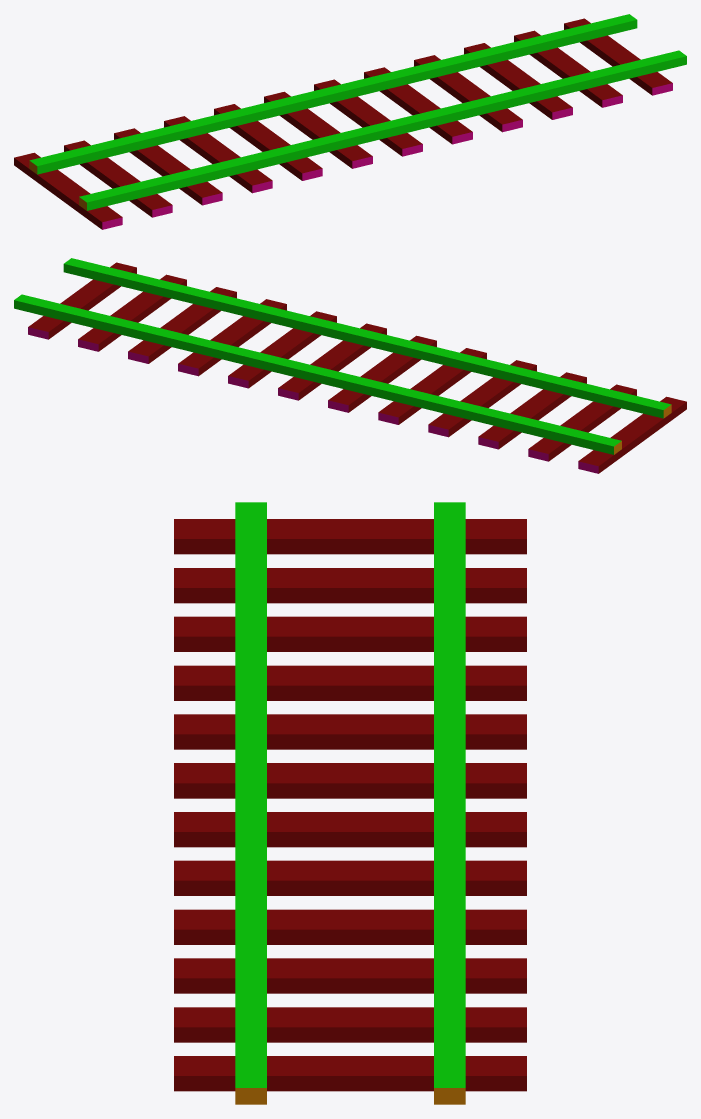
Rendered from rail_straight.fbx.
3 renders of one model, top to bottom at view 1: azimuth 30°, elevation 25°; view 2: azimuth 150°, elevation 25°; view 3: azimuth 270°, elevation 25°, orthographic. The views are drawn at different scales.
Parts seen in each view (by area): view 1: rail.001 (×3); view 2: rail.001 (×3); view 3: rail.001 (×3).
Boxes of the visible parts, x1=… form: rail.001 (×3): x1=14, y1=14, x2=686, y2=229; rail.001 (×3): x1=14, y1=258, x2=686, y2=473; rail.001 (×3): x1=174, y1=502, x2=526, y2=1104.
Size of the model in its own units: 5.88 by 0.1509 by 1.5.
